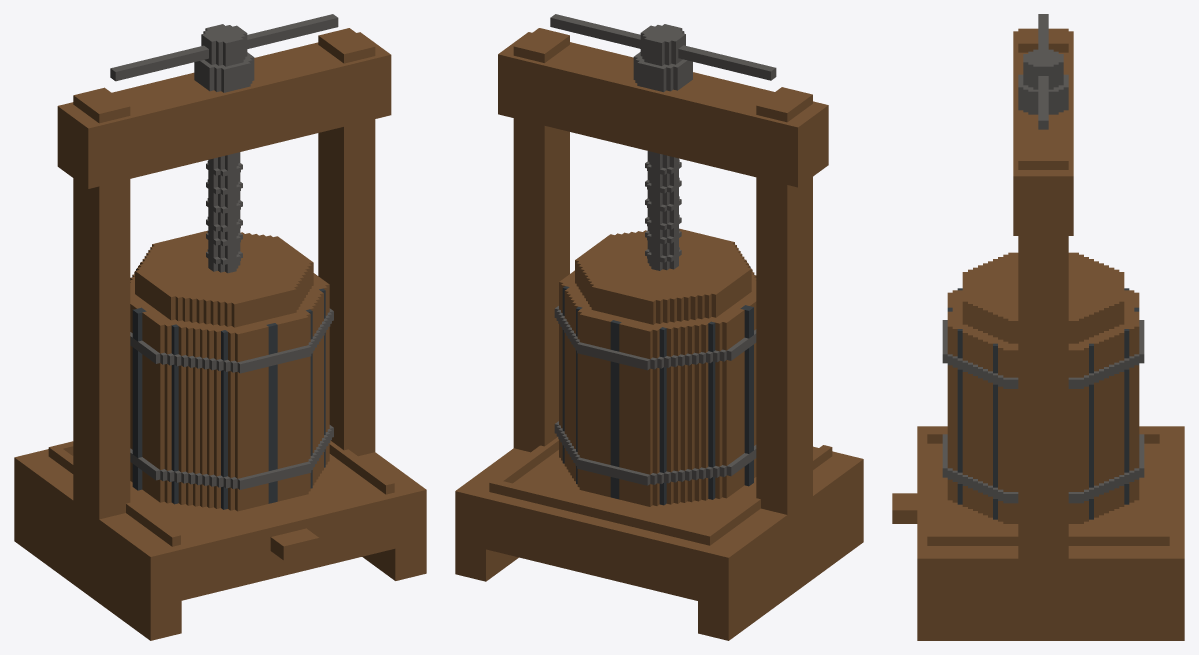
The model's file is screw_press.glb.
3 views of the same model, side by side, from view 1: azimuth 30°, elevation 25°; view 2: azimuth 150°, elevation 25°; view 3: azimuth 270°, elevation 25° (orthographic).
Visible parts, largest first — view 1: screw_press:compound; view 2: screw_press:compound; view 3: screw_press:compound.
Boxes of the visible parts, x1,y1,x2,y2 form: screw_press:compound: (14, 14, 426, 640); screw_press:compound: (455, 14, 863, 640); screw_press:compound: (892, 14, 1184, 640).
Bounding box in the file's own units: 0.544 × 0.904 × 0.464.
